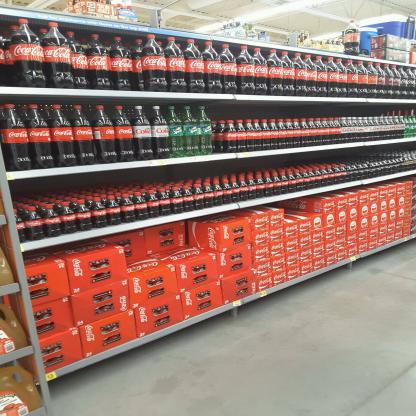Void: (281, 199, 318, 213)
